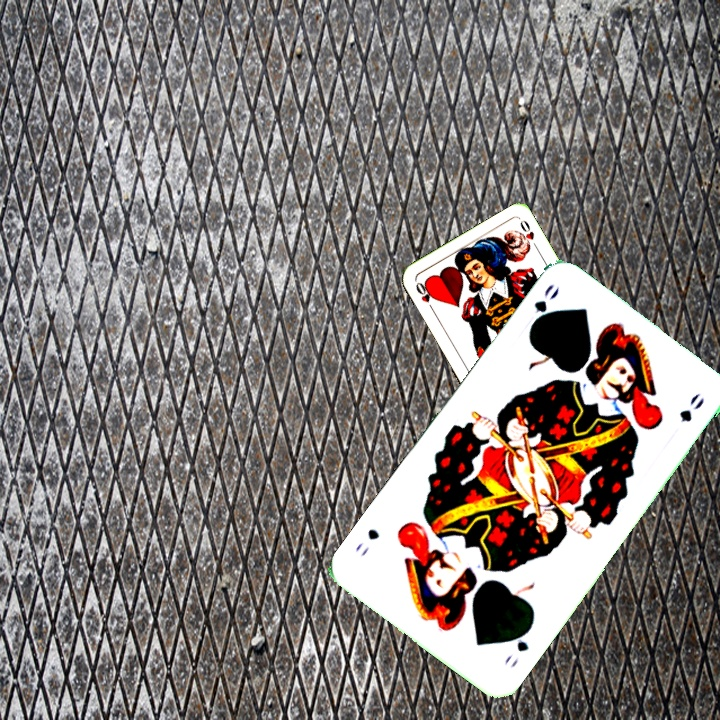GO: (525, 280, 562, 335), (500, 622, 534, 670)
HO: (411, 278, 437, 314)
